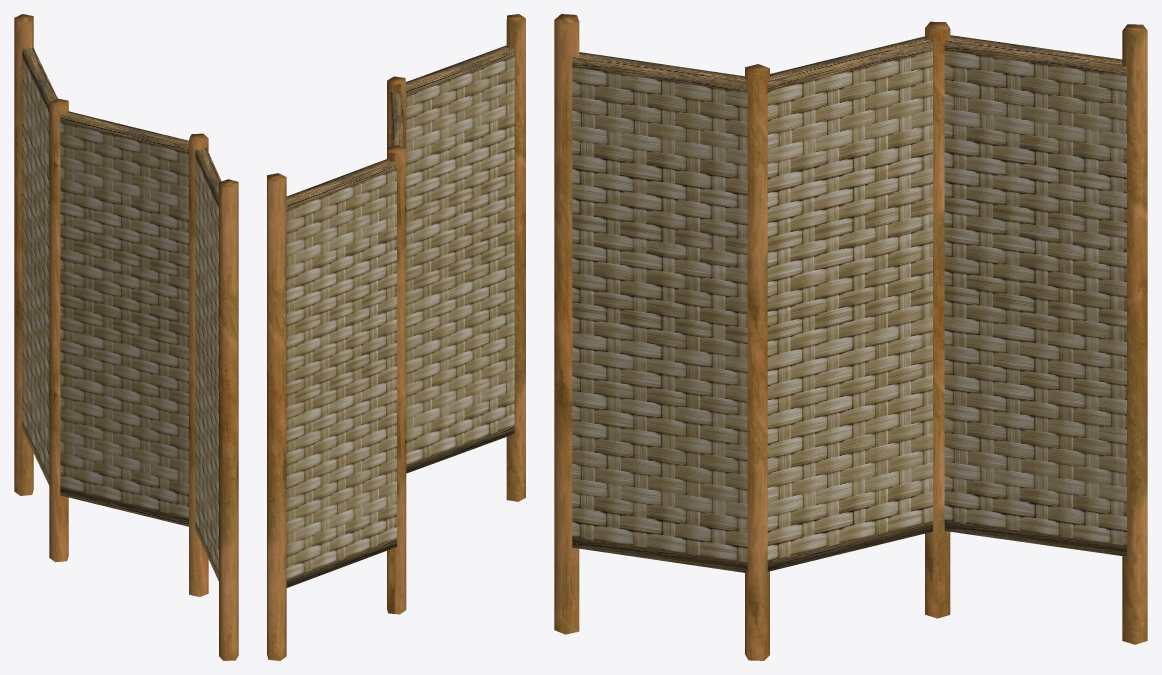
File: GS_FURNITURE_PARAWAN_01.glb
The picture shows the model from 3 angles, left to right: view 1: azimuth 30°, elevation 25°; view 2: azimuth 150°, elevation 25°; view 3: azimuth 270°, elevation 25°; orthographic projection. The views are drawn at different scales.
Parts seen in each view (by area): view 1: Mesh; view 2: Mesh; view 3: Mesh.
Boxes of the visible parts, bbox=[...] form: Mesh: bbox=[14, 14, 238, 660]; Mesh: bbox=[267, 14, 525, 660]; Mesh: bbox=[554, 14, 1147, 660].
Bounding box in the file's own units: 0.4936 × 2.67 × 2.35.
Materials: 3 (3 with a texture image).
